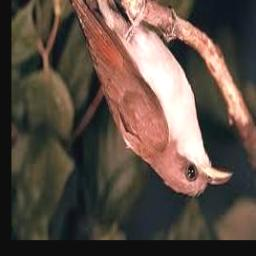Cuckoo: (60, 0, 233, 197)
